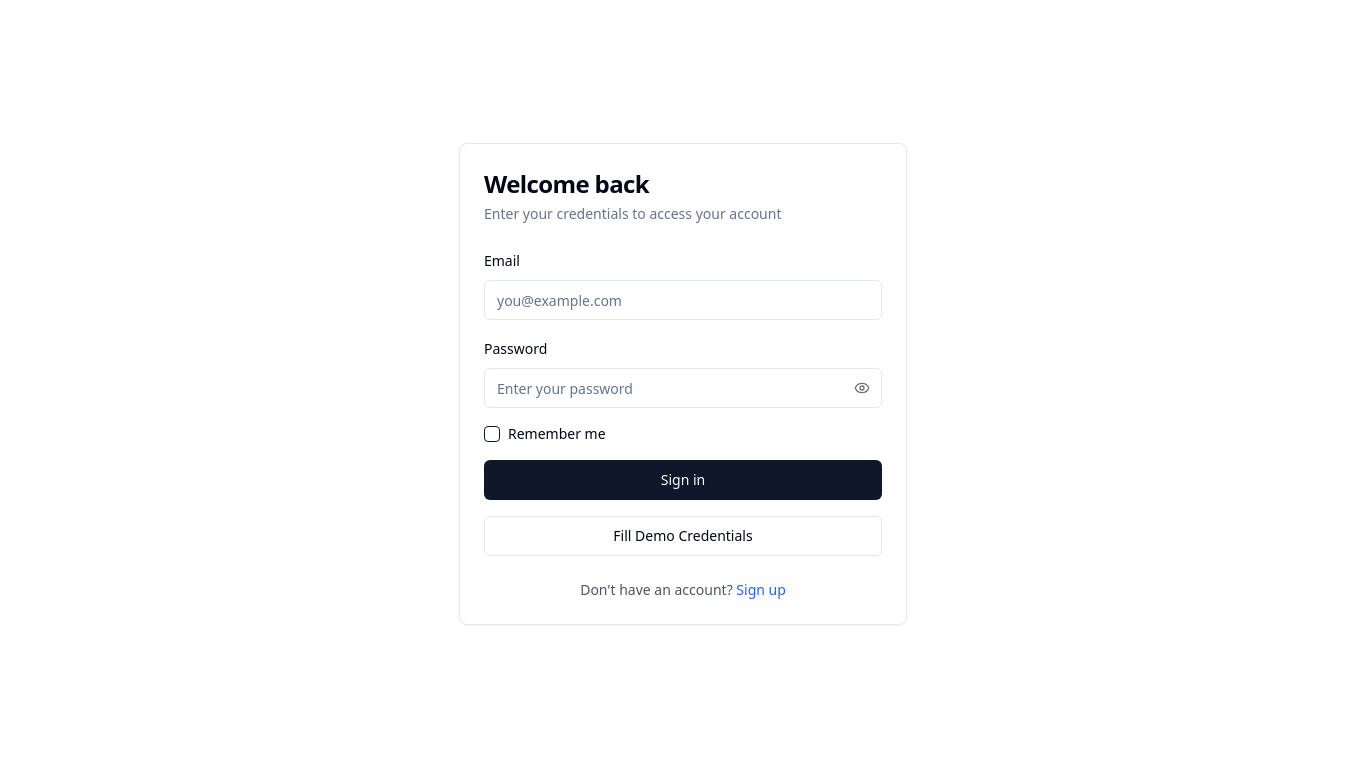
Test: LoginPage › form submission › should show loading state during submission
The width and height of the screenshot is (1366, 768).
In the field labelled "Email": (683, 300) x1=484 y1=280 x2=882 y2=320, type "test@example.com"
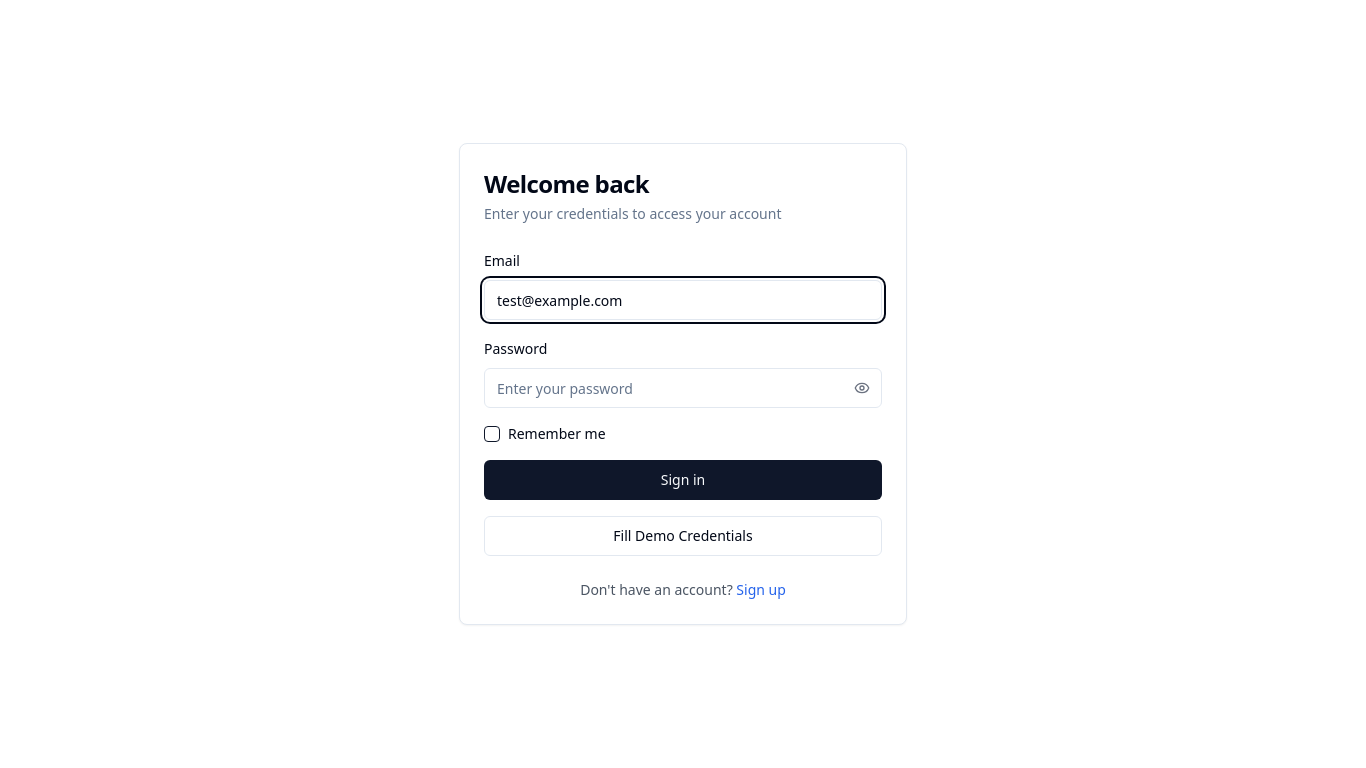
In the password field labelled "Password": (683, 388) x1=484 y1=368 x2=882 y2=408, type "password123"
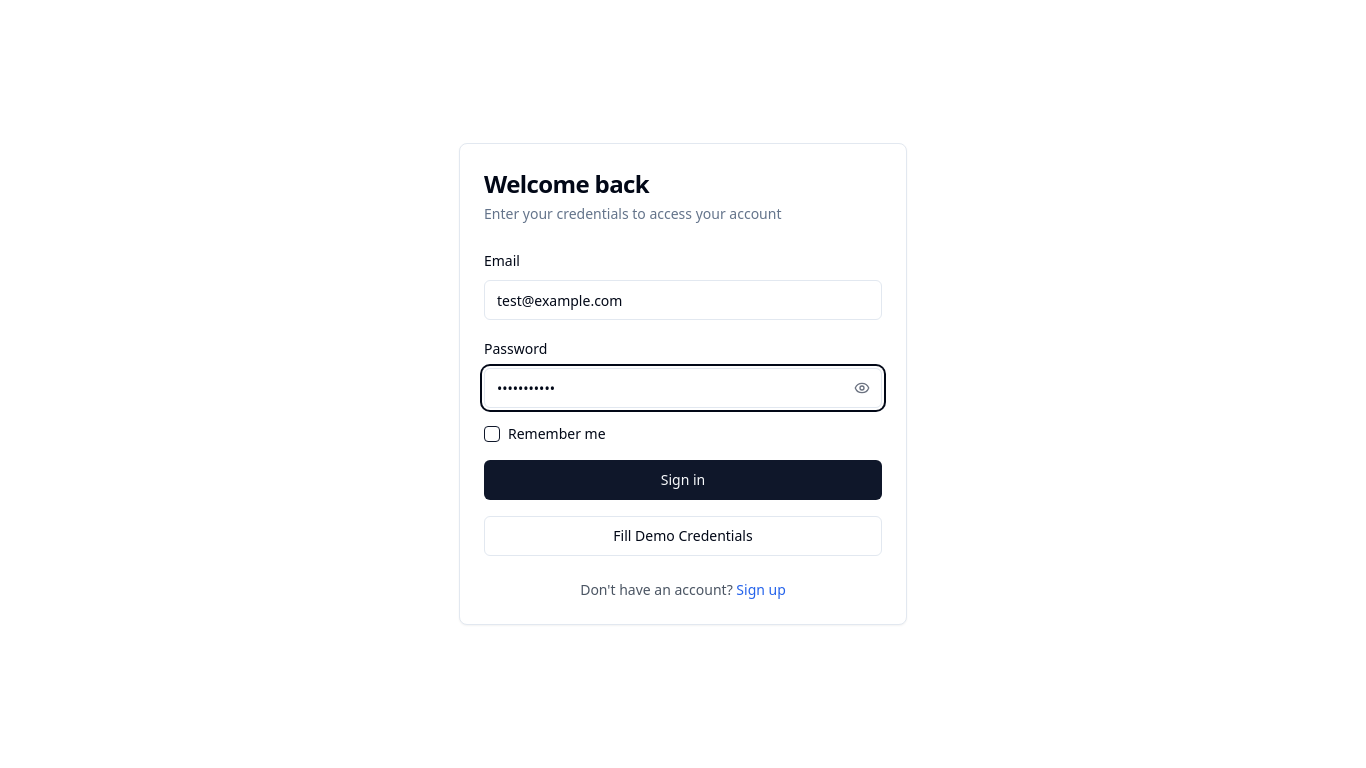
Click the button "Sign in": (683, 480) x1=484 y1=460 x2=882 y2=500
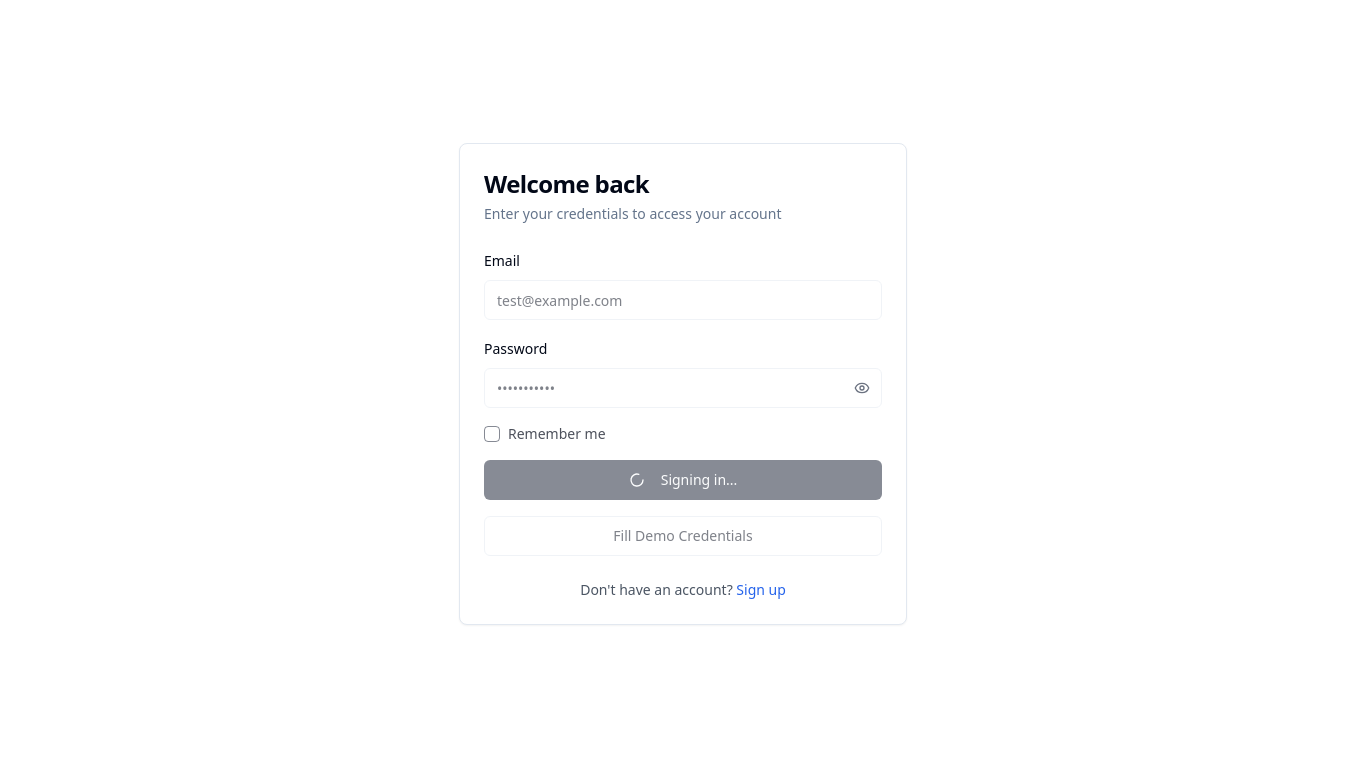
Result: the button "Signing in..." is disabled at x1=484 y1=460 x2=882 y2=500
